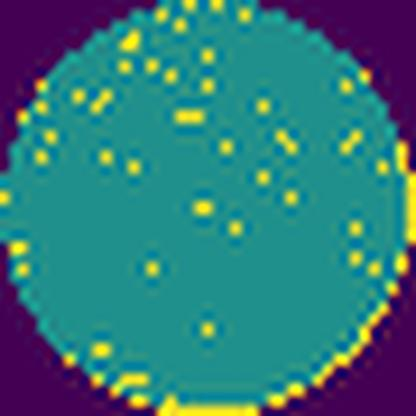Edge-Loc: (268, 140, 416, 415), (157, 392, 266, 415)
